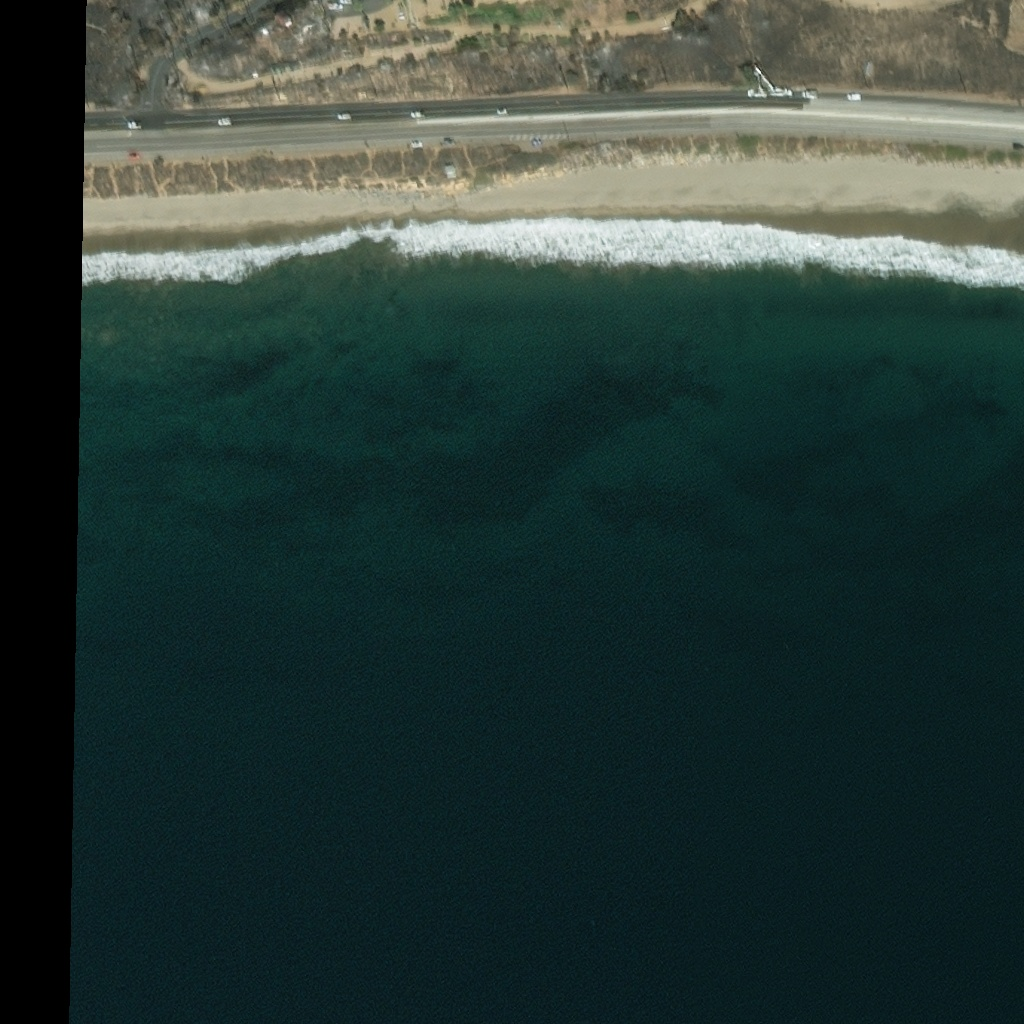3 destroyed: (286, 6, 331, 42), (257, 20, 279, 39), (164, 81, 172, 92)
4 un-classified: (269, 56, 299, 66)
